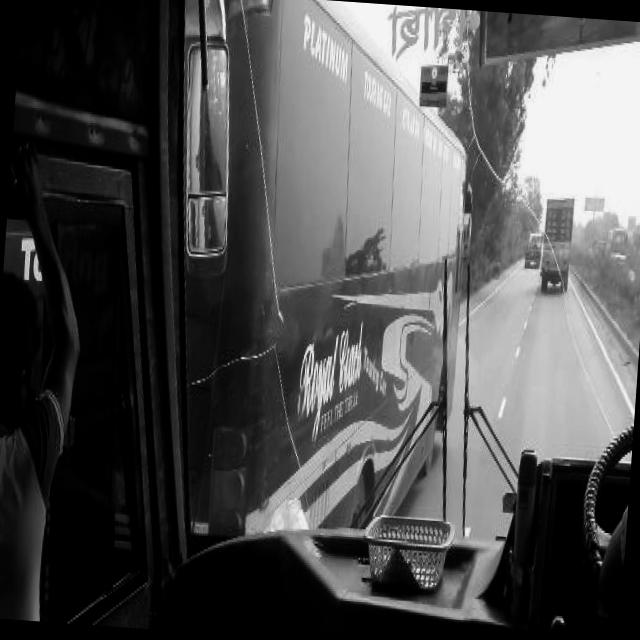bus: (197, 0, 482, 523), (604, 226, 627, 260)
truck: (539, 192, 572, 286), (523, 226, 542, 266)
